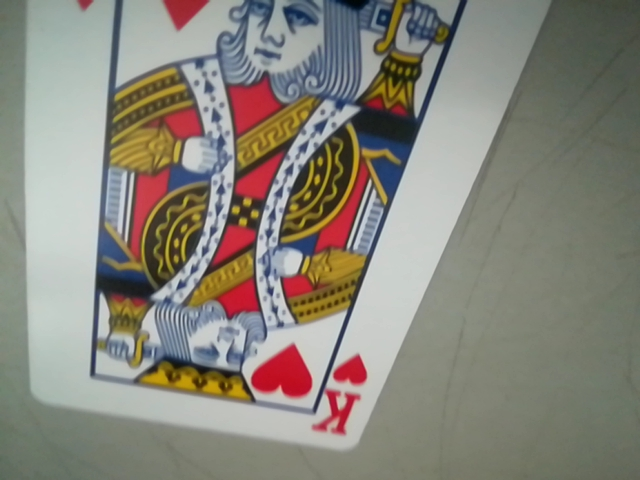hx k: (309, 355, 374, 440)
